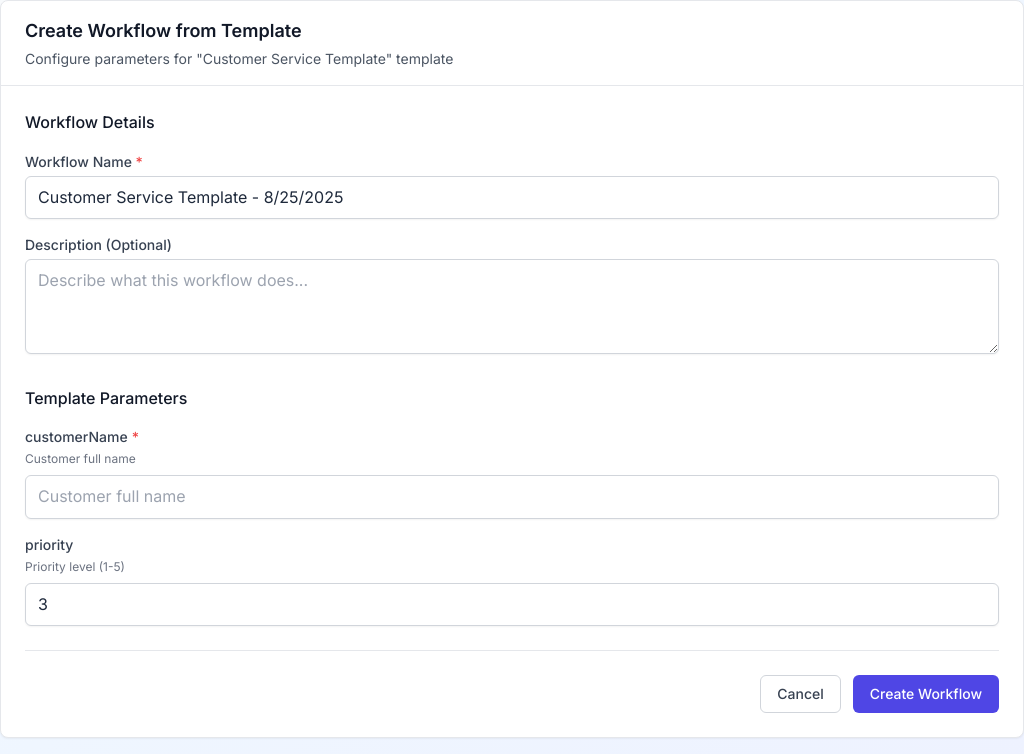
TemplateInstantiationForm Integration › handles workflow creation errors
The image size is (1024, 754).
Expected: the heading "Create Workflow from Template" is shown, [25,20,302,41]
Fill in required fields
Replace the text in the field labelled "Workflow Name *" with "Test Workflow". click: (512, 197)
box: [25,176,999,219]
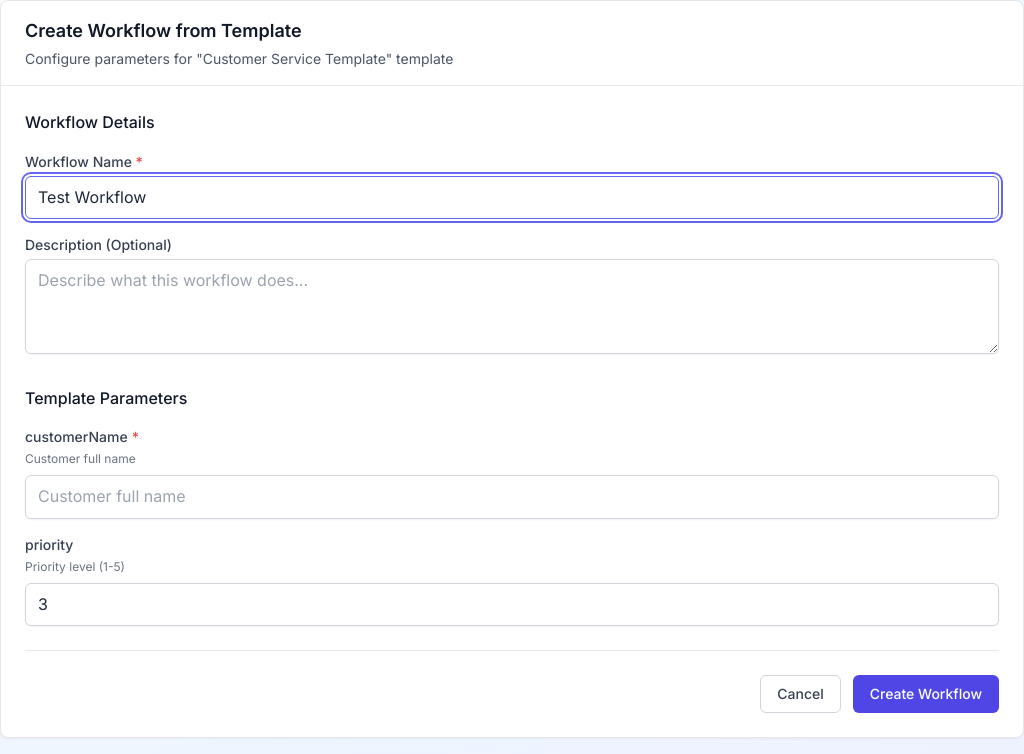
Type "Jane Doe" into the field labelled "customerName*". click: (512, 497)
box: [25,475,999,519]
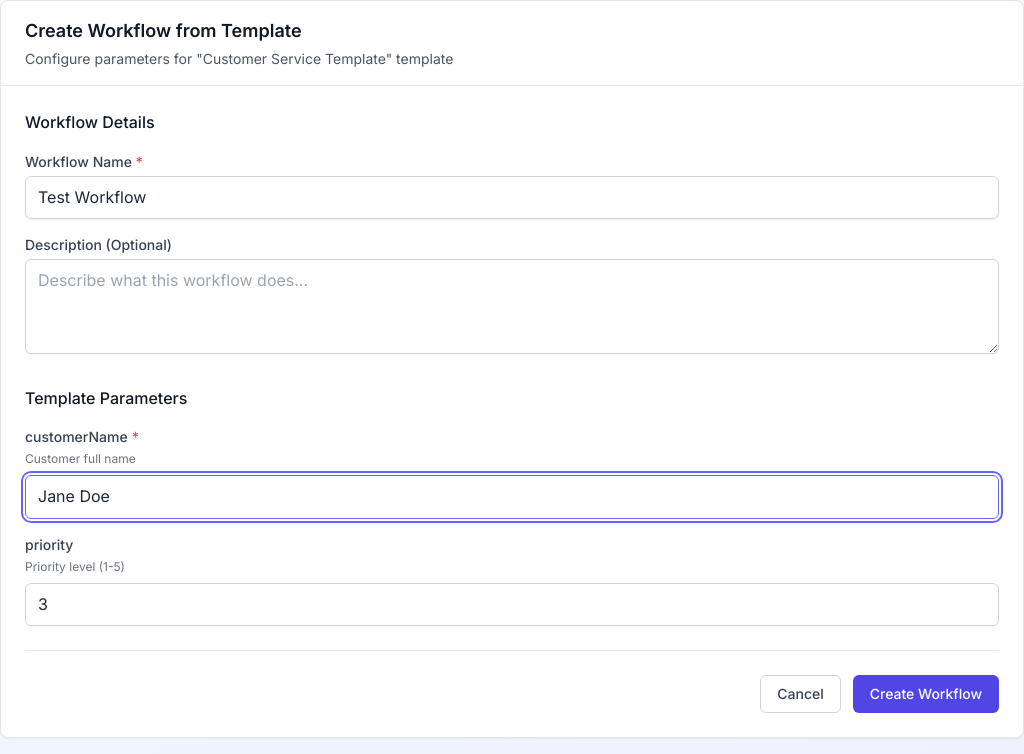
Submit form
Click the button "Create Workflow". click: click(926, 694)
box: [853,675,999,713]
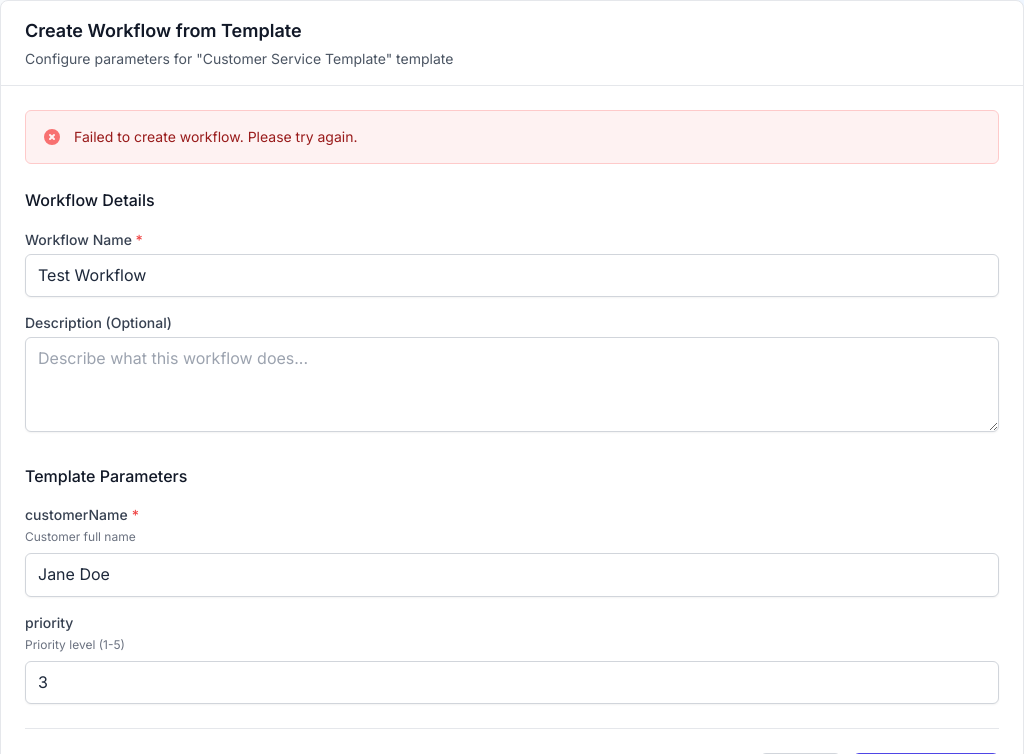
Expected: the text "Failed to create workflow. Please try again." is shown, [74,127,358,147]
